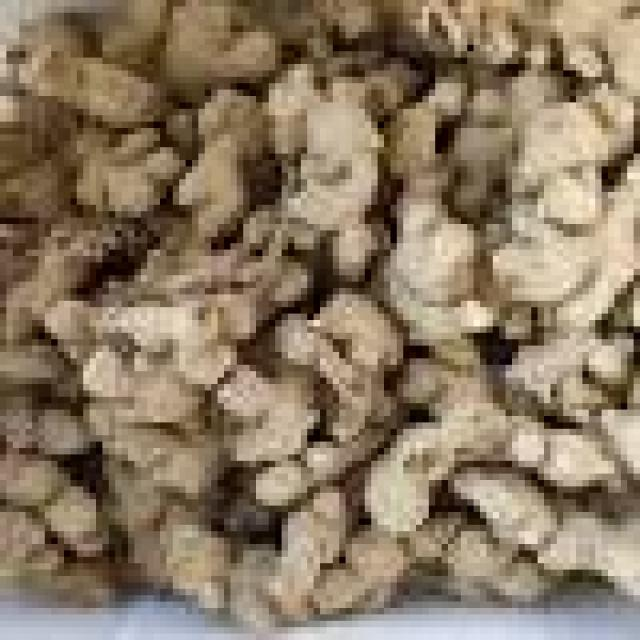ginger: (6, 19, 640, 634)
